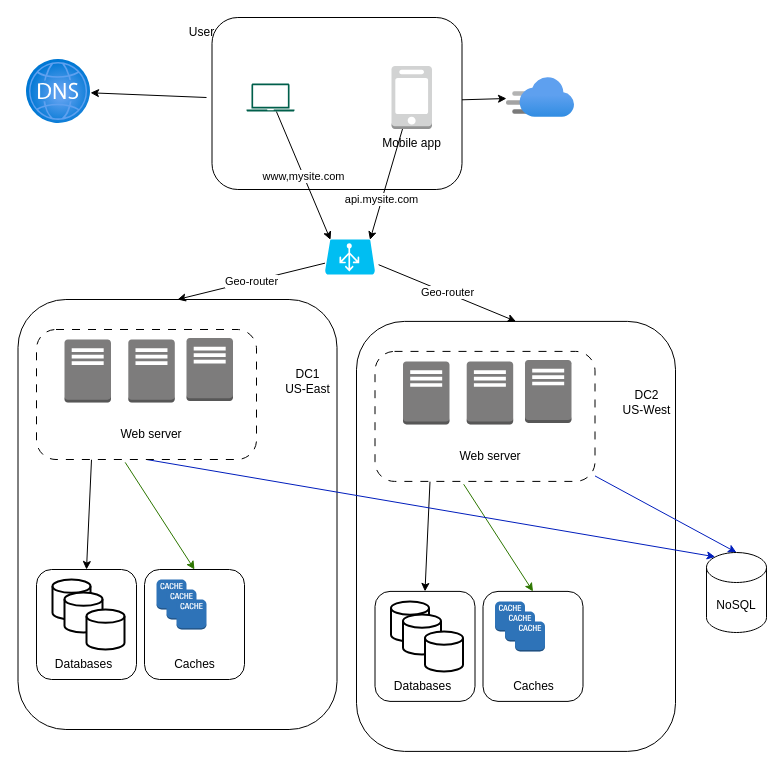
This 784x769 diagram has some shape labels left out. Here are the shapes that lost their labels. From the top down, the centre of each, then its label:
At (270,97): "Web browser".
At (540,97): "CDN".
